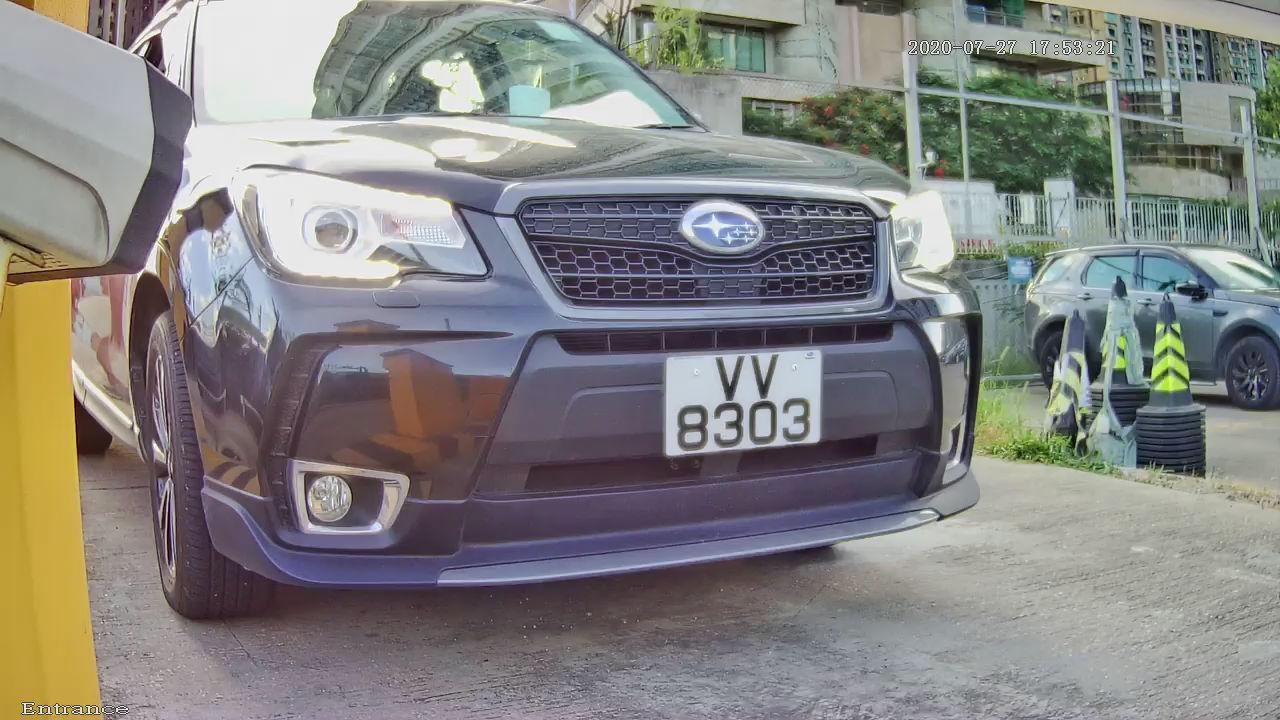privatecar: (63, 26, 1075, 634)
